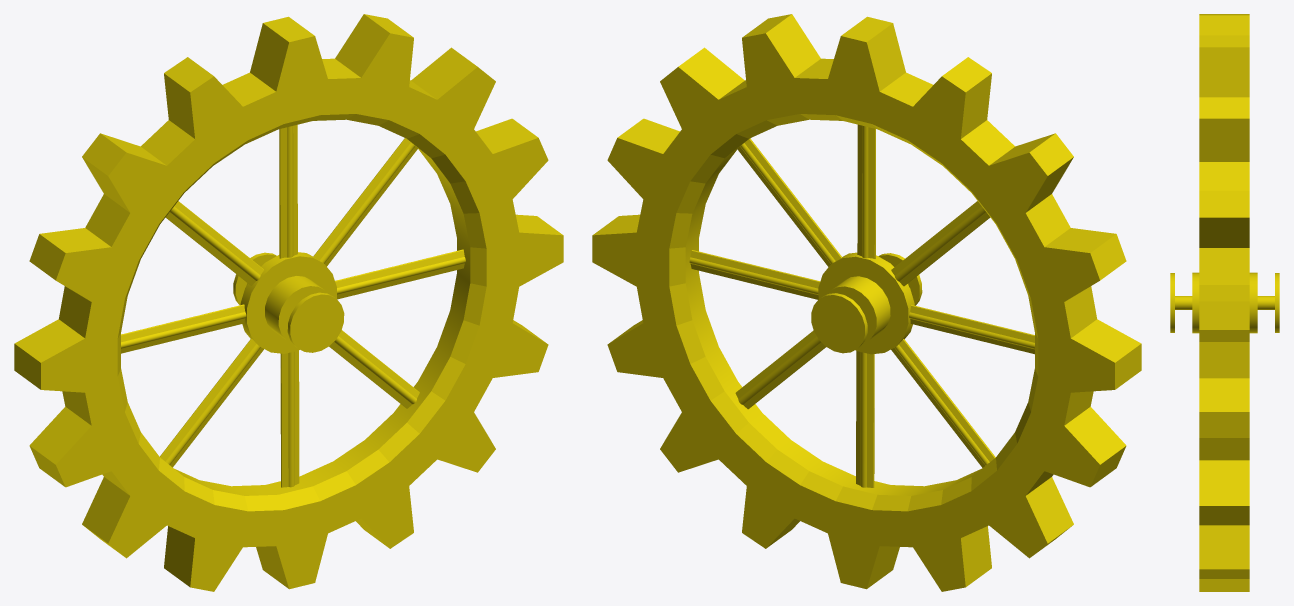
File: Gears.fbx
3 views of the same model, side by side, from view 1: azimuth 30°, elevation 25°; view 2: azimuth 150°, elevation 25°; view 3: azimuth 270°, elevation 25° (orthographic). The views are drawn at different scales.
Visible parts, largest first — view 1: Gear; view 2: Gear; view 3: Gear.
Part boxes in pixels (<box>): Gear: <box>14,14,563,591</box>; Gear: <box>592,14,1141,591</box>; Gear: <box>1170,14,1279,591</box>.
Bounding box in the file's own units: 97.72 × 97.72 × 18.49.
